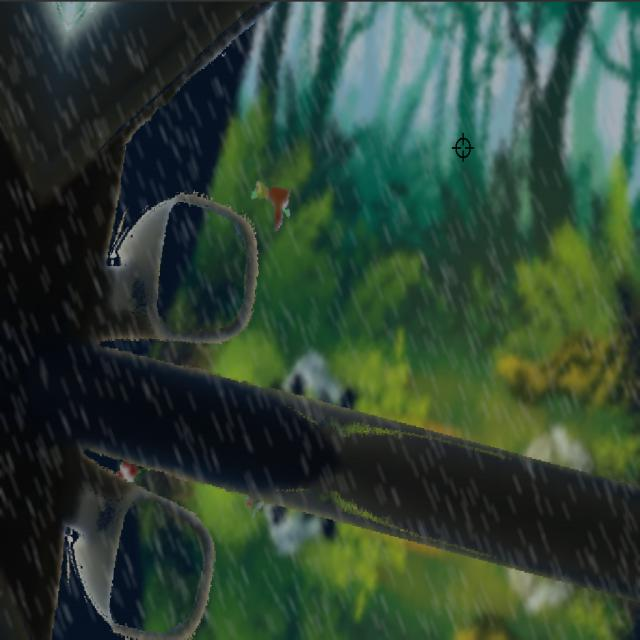duck: (248, 176, 297, 242), (110, 449, 144, 487)
